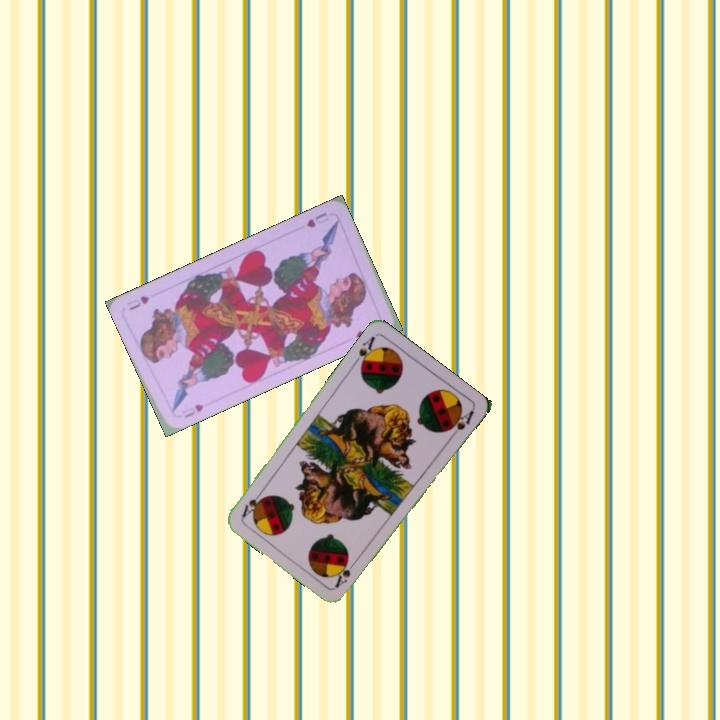HU: (302, 208, 331, 230), (178, 400, 206, 421)
SA: (350, 332, 380, 371), (331, 555, 360, 591)
